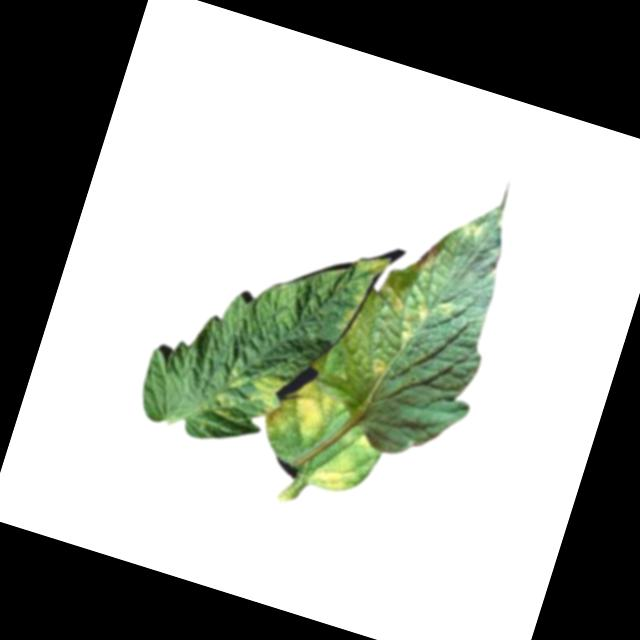Leaf_Mold: (267, 366, 349, 443), (215, 360, 288, 419), (375, 288, 436, 355), (304, 445, 360, 496), (409, 231, 445, 278), (365, 353, 389, 379)
